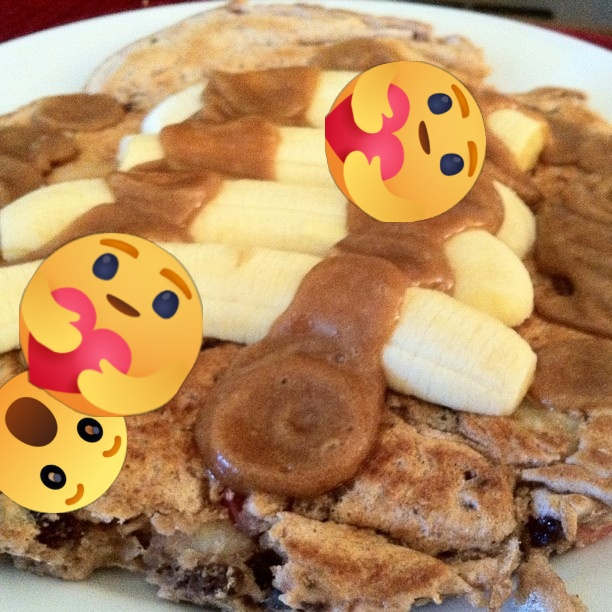care: (19, 233, 203, 417), (325, 61, 486, 222)
wow: (0, 366, 127, 513)
